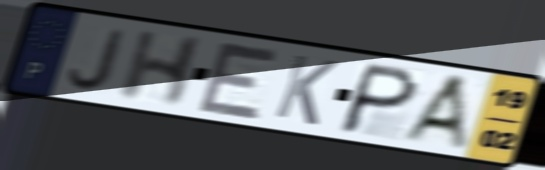A: (398, 73, 472, 155)
E: (194, 37, 284, 123)
H: (114, 29, 209, 109)
J: (65, 26, 132, 93)
K: (270, 51, 342, 128)
P: (334, 61, 423, 137)
